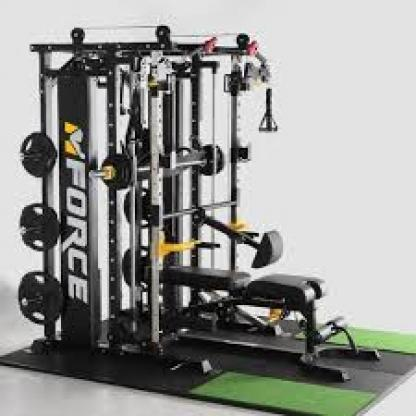smith machine: (17, 23, 383, 383)
